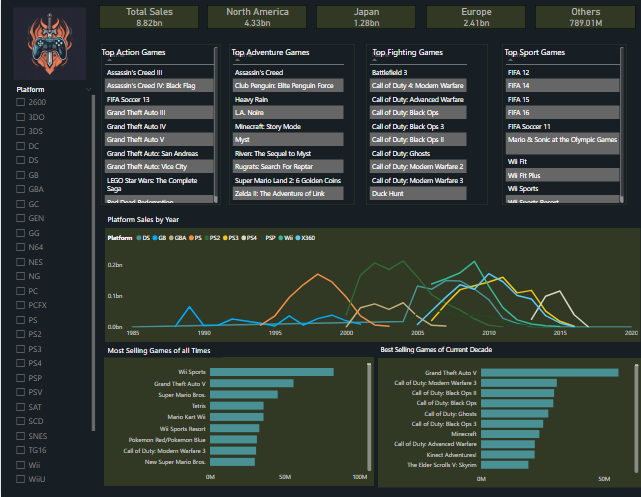

The dashboard page shown, as its layout file describes it:
{"tool":"powerbi","page":{"name":"Detailed Analysis","canvas":[1280,1000],"ordinal":0},"visuals":[{"type":"card","title":"Total Sales","fields":{"Values":["Sum(vgsales.sales)"]},"box":[196.9,16.9,199.7,47.8],"z":0},{"type":"card","title":"North America","fields":{"Values":["Sum(vgsales.sales)"]},"box":[412.1,16.9,199.7,47.8],"z":1000},{"type":"card","title":"Others","fields":{"Values":["Sum(vgsales.sales)"]},"box":[1067.6,16.9,201.1,47.8],"z":2000},{"type":"card","title":"Europe","fields":{"Values":["Sum(vgsales.sales)"]},"box":[851,16.9,199.7,47.8],"z":3000},{"type":"card","title":"Japan","fields":{"Values":["Sum(vgsales.sales)"]},"box":[630.2,16.9,199.7,47.8],"z":4000},{"type":"lineChart","fields":{"Category":["vgsales.Year"],"Y":["Sum(vgsales.sales)"],"Series":["vgsales.Platform"]},"box":[208.3,461.5,1071,228.1],"z":5000,"group":"g1"},{"type":"image","box":[16.9,16.9,163.2,154.7],"z":5000},{"type":"slicer","fields":{"Values":["vgsales.Platform"]},"box":[17.4,172.4,175.9,806.3],"z":6000},{"type":"clusteredBarChart","fields":{"Y":["Sum(vgsales.sales)"],"Category":["vgsales.Name"]},"box":[206,720.1,539.9,257.7],"z":6000,"group":"g1"},{"type":"tableEx","fields":{"Values":["vgsales.Name"]},"box":[200.3,94,238.6,322.2],"z":7000},{"type":"clusteredBarChart","fields":{"Y":["Sum(vgsales.sales)"],"Category":["vgsales.Name"]},"box":[753.6,720.6,525.9,259.5],"z":7000,"group":"g1"},{"type":"textbox","box":[196.8,94,231.6,36.6],"z":8000},{"type":"textbox","box":[208.9,690.2,234.9,30.9],"z":8000,"group":"g1"},{"type":"textbox","box":[753.6,689.2,263,27.9],"z":9000,"group":"g1"},{"type":"group","id":"g1","title":"Group 1","box":[206,461.5,1073.5,518.6],"z":9000},{"type":"tableEx","fields":{"Values":["vgsales.Name"]},"box":[456.3,94,250.8,322.2],"z":10000},{"type":"tableEx","fields":{"Values":["vgsales.Name"]},"box":[729.7,94,243.8,322.2],"z":11000},{"type":"tableEx","fields":{"Values":["vgsales.Name"]},"box":[1001.4,94,249,322.2],"z":12000},{"type":"textbox","box":[456.3,94,250.8,36.6],"z":13000},{"type":"textbox","box":[738.4,94,200.3,36.6],"z":14000},{"type":"textbox","box":[1001.4,94,233.4,36.6],"z":15000},{"type":"textbox","box":[209,428.4,247.3,34.8],"z":16000}]}

Visuals, with their boxes in screenshot pixels (x1, y1, x2, y2), scaled from the page's 1280x1000 canvas onto the 641x497 screenshot:
"Total Sales" card: pyautogui.locateOnScreen(99, 8, 199, 32)
"North America" card: pyautogui.locateOnScreen(206, 8, 306, 32)
"Others" card: pyautogui.locateOnScreen(535, 8, 635, 32)
"Europe" card: pyautogui.locateOnScreen(426, 8, 526, 32)
"Japan" card: pyautogui.locateOnScreen(316, 8, 416, 32)
lineChart - vgsales.Year x Sum(vgsales.sales): pyautogui.locateOnScreen(104, 229, 640, 343)
image: pyautogui.locateOnScreen(8, 8, 90, 85)
slicer - vgsales.Platform: pyautogui.locateOnScreen(9, 86, 97, 486)
clusteredBarChart - Sum(vgsales.sales) x vgsales.Name: pyautogui.locateOnScreen(103, 358, 374, 486)
tableEx - vgsales.Name: pyautogui.locateOnScreen(100, 47, 220, 207)
clusteredBarChart - Sum(vgsales.sales) x vgsales.Name: pyautogui.locateOnScreen(377, 358, 640, 487)
textbox: pyautogui.locateOnScreen(99, 47, 215, 65)
textbox: pyautogui.locateOnScreen(105, 343, 222, 358)
textbox: pyautogui.locateOnScreen(377, 343, 509, 356)
"Group 1" group: pyautogui.locateOnScreen(103, 229, 640, 487)
tableEx - vgsales.Name: pyautogui.locateOnScreen(229, 47, 354, 207)
tableEx - vgsales.Name: pyautogui.locateOnScreen(365, 47, 488, 207)
tableEx - vgsales.Name: pyautogui.locateOnScreen(501, 47, 626, 207)
textbox: pyautogui.locateOnScreen(229, 47, 354, 65)
textbox: pyautogui.locateOnScreen(370, 47, 470, 65)
textbox: pyautogui.locateOnScreen(501, 47, 618, 65)
textbox: pyautogui.locateOnScreen(105, 213, 229, 230)
